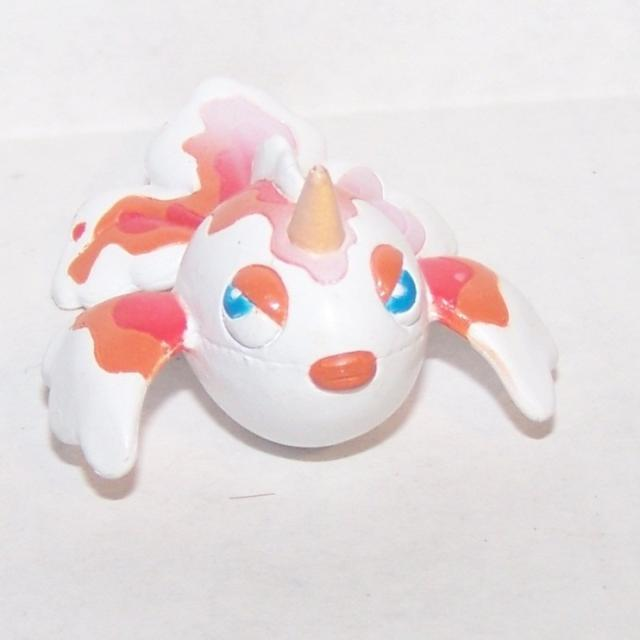Goldeen: (86, 129, 467, 460)
